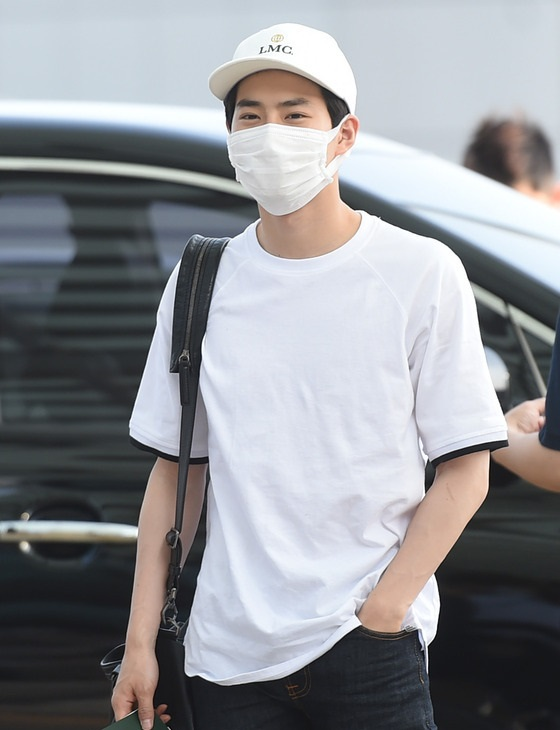face_mask: (230, 63, 333, 214)
